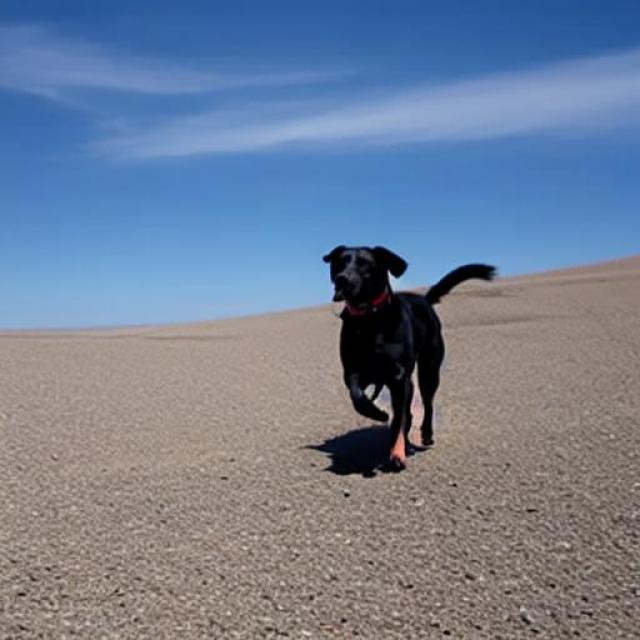Dog: (322, 244, 498, 463)
